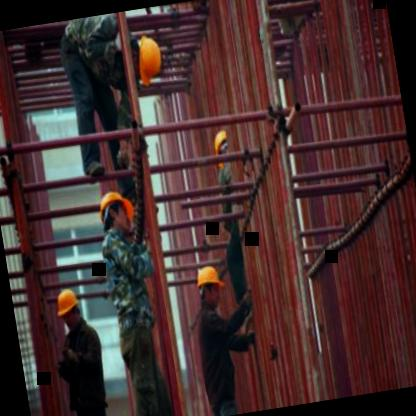helmet: (88, 182, 141, 244), (130, 28, 168, 90), (191, 260, 227, 314), (206, 124, 240, 176), (52, 284, 86, 332)
